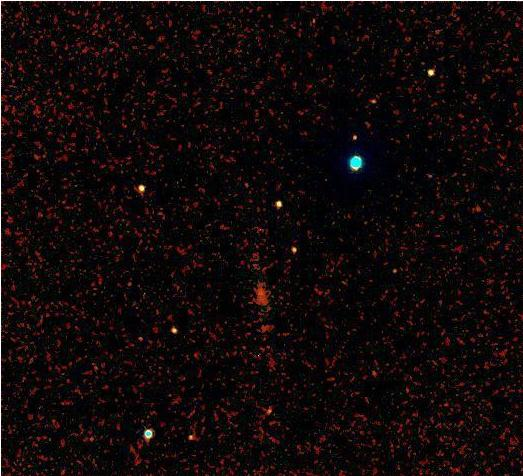star: (338, 122, 368, 152)
